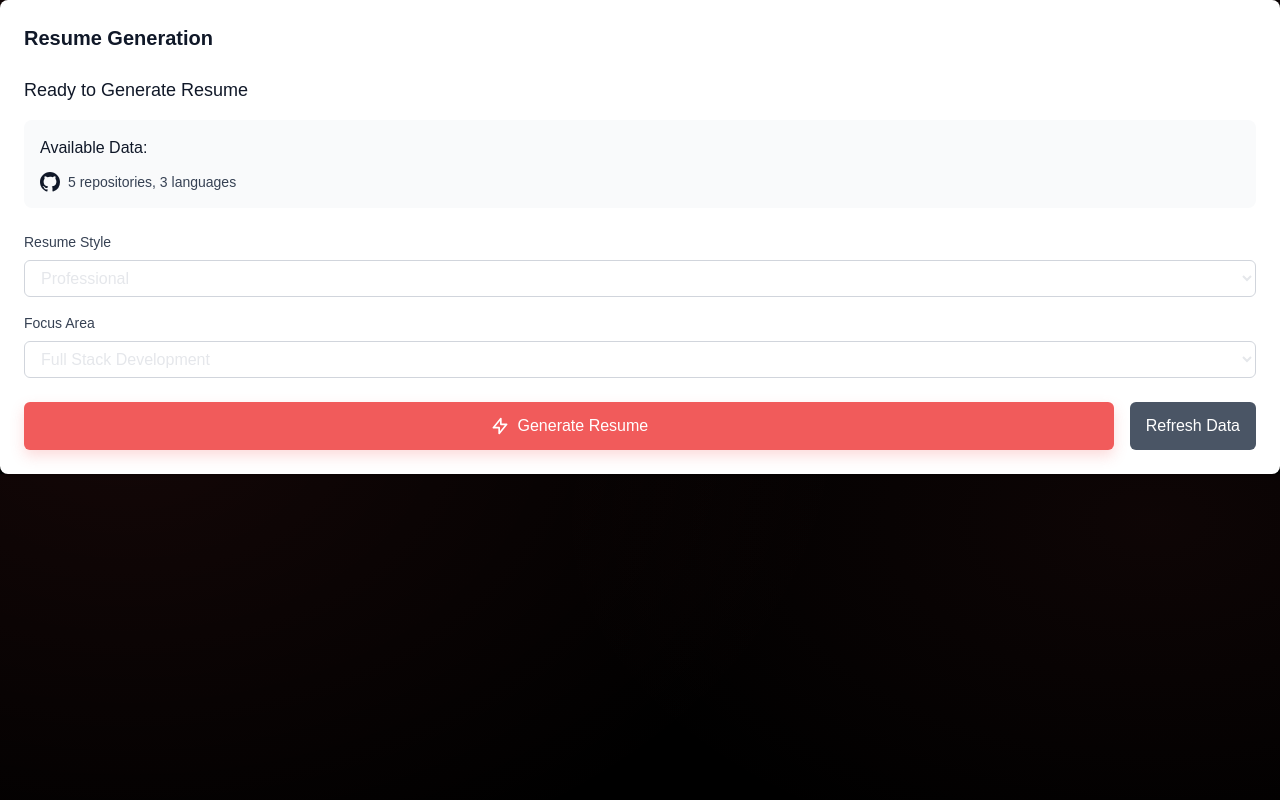
ResumeGenerator › handles generation errors correctly
Click the button "Generate Resume". click: click(569, 426)
box: left=24, top=402, right=1114, bottom=450
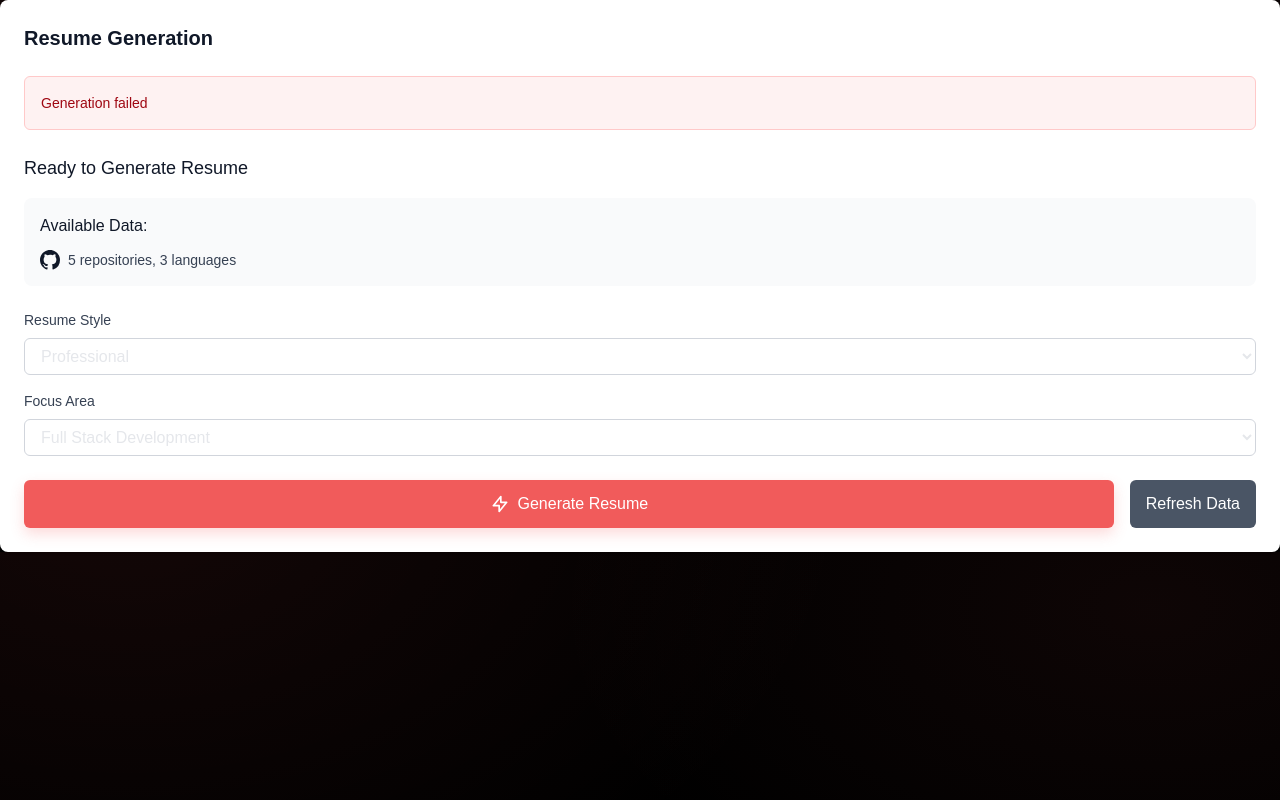
Now the text "Generation failed" is shown, box left=41, top=95, right=148, bottom=111
